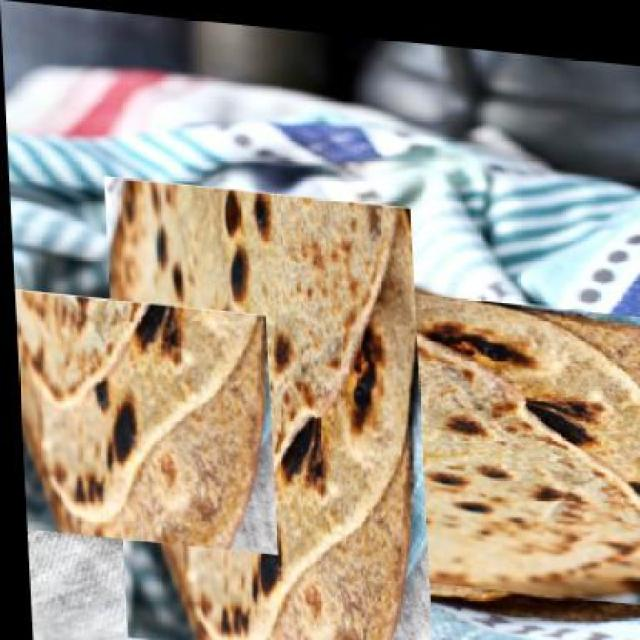chapati: (138, 260, 638, 597), (65, 210, 467, 628), (12, 283, 270, 557)
